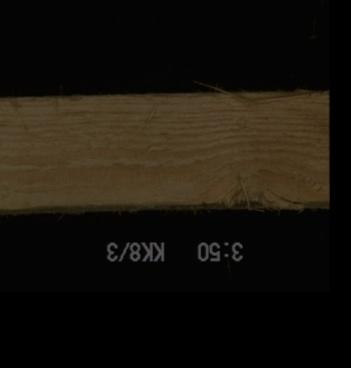edge_knot: (182, 177, 300, 210)
